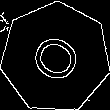O_SE: (23, 26, 88, 89)
